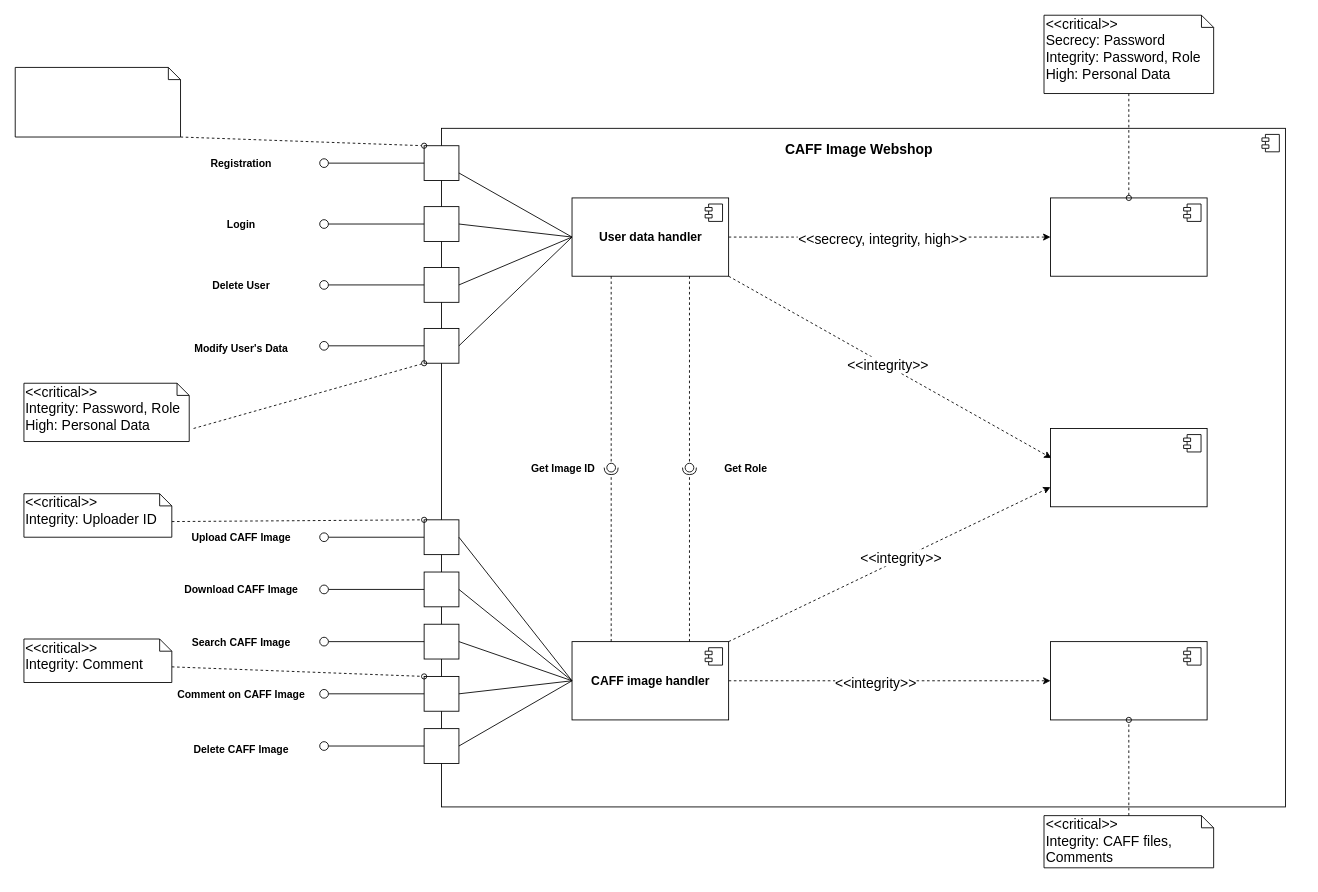
Image size: 1318x892. Some labels were removed from this diagram. The centre of each missing label's shape, as x and y in pixels:
"<<critical>> Audit Log" belongs at (1128,467).
"<<critical>> File Storage" belongs at (1128,680).
"<<critical>> Secrecy: Password Integrity: Password High: Personal Data" belongs at (97,102).
"<<critical>> User Data Database" belongs at (1128,236).
